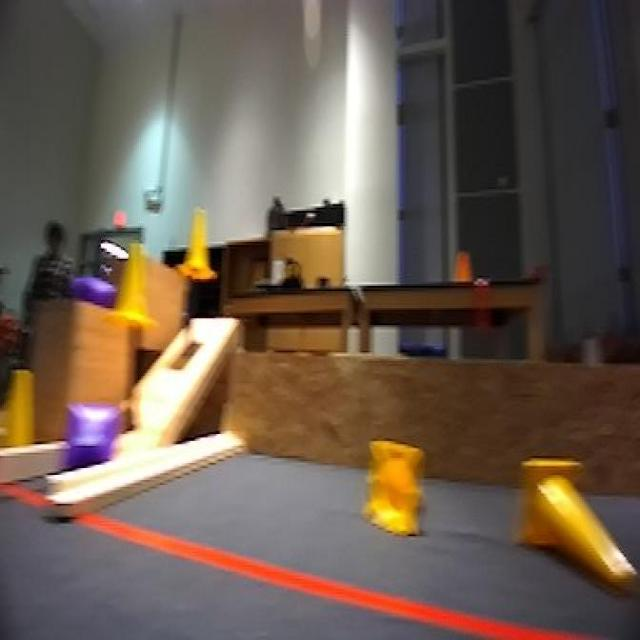frc_cone: (514, 456, 616, 579), (360, 439, 433, 541), (114, 222, 156, 336), (0, 373, 40, 471), (188, 218, 212, 293)
frc_cube: (68, 398, 114, 478), (55, 267, 118, 308)
